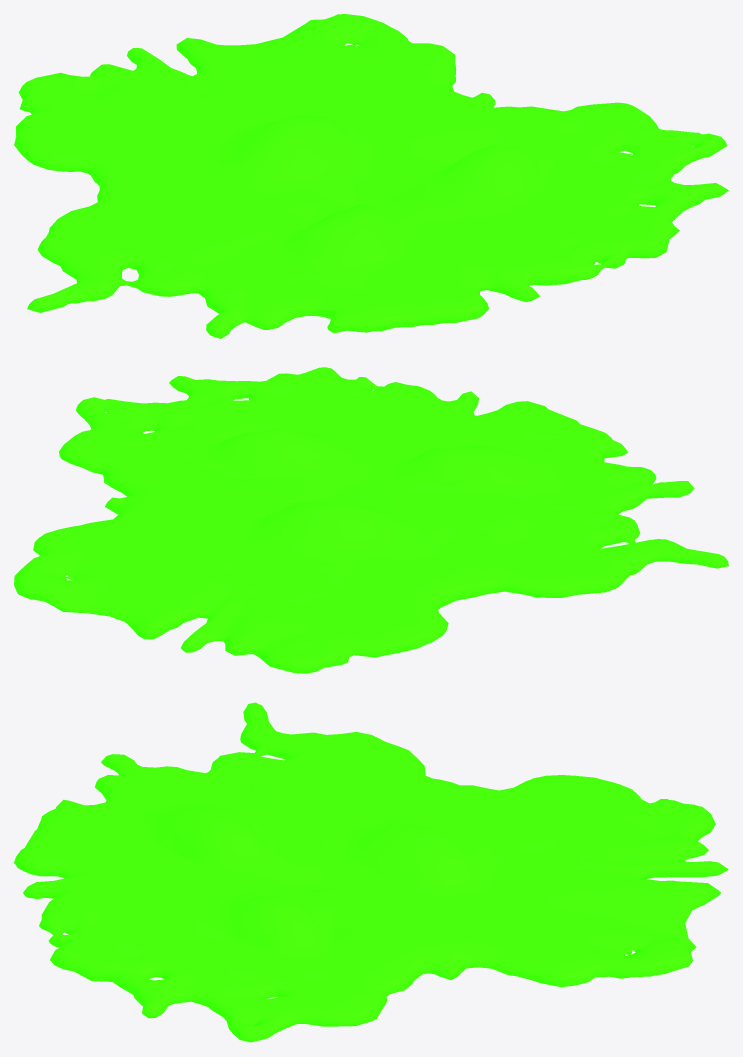
File: AcidLumps.fbx
The picture shows the model from 3 angles, top to bottom: view 1: azimuth 30°, elevation 25°; view 2: azimuth 150°, elevation 25°; view 3: azimuth 270°, elevation 25°; orthographic projection. The views are drawn at different scales.
Visible parts, largest first — view 1: Liquid Domain; view 2: Liquid Domain; view 3: Liquid Domain.
Boxes of the visible parts, box(x1,y1,x2,y2) form: Liquid Domain: box(14, 14, 728, 338); Liquid Domain: box(14, 367, 728, 673); Liquid Domain: box(14, 702, 728, 1042).
Bounding box in the file's own units: 614 × 41.14 × 551.
